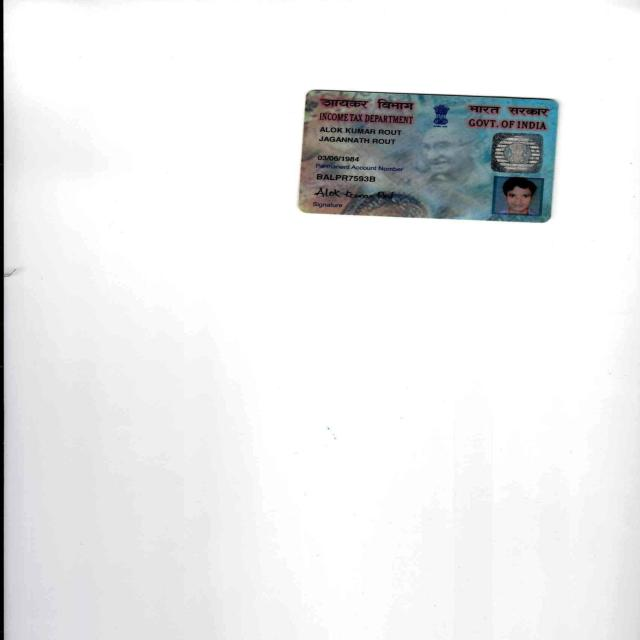pan_card: (300, 89, 556, 223)
